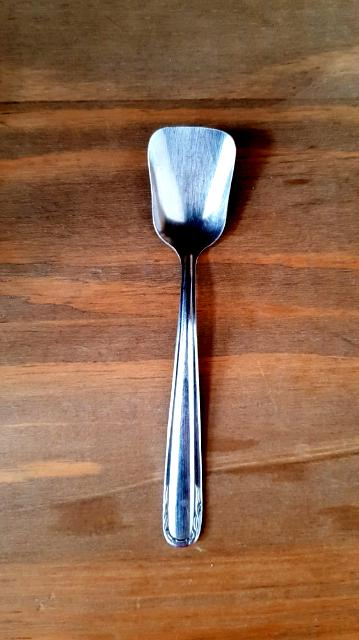Spoon: (149, 127, 235, 546)
